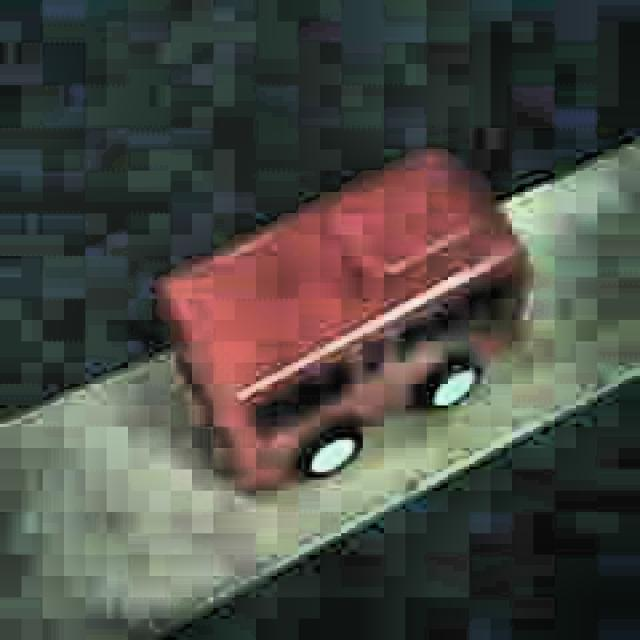bus: (155, 145, 532, 498)
